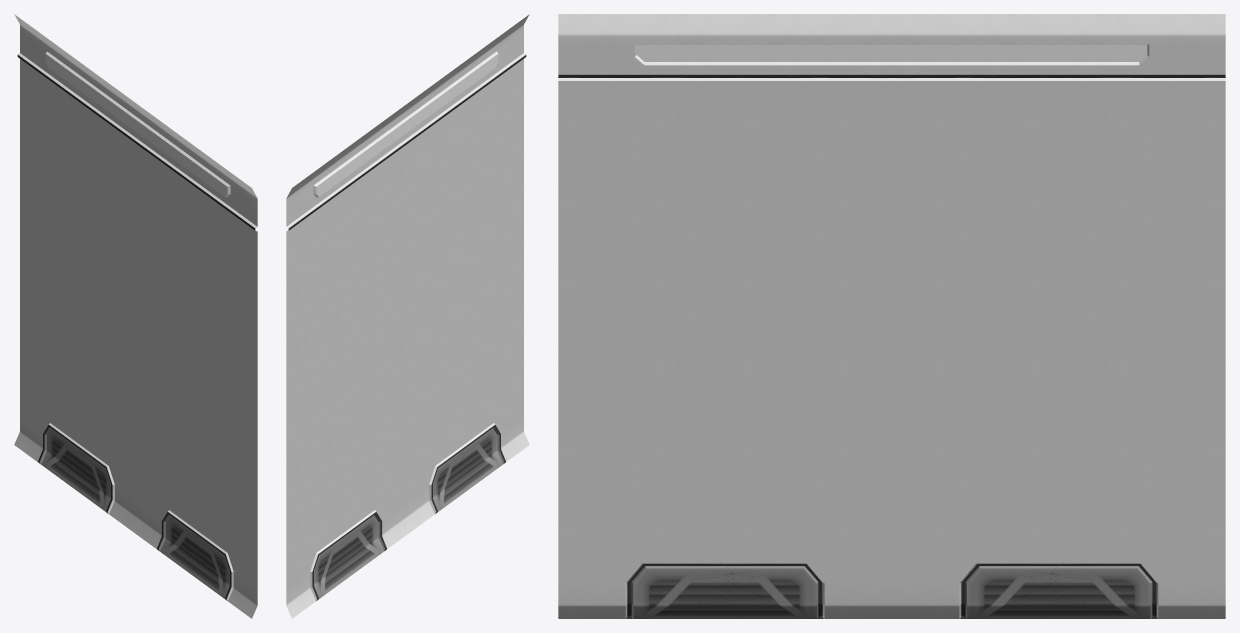
Rendered from SM_MWall03-350x350-2.FBX.
The picture shows the model from 3 angles, left to right: view 1: azimuth 30°, elevation 25°; view 2: azimuth 150°, elevation 25°; view 3: azimuth 270°, elevation 25°; orthographic projection. The views are drawn at different scales.
Visible parts, largest first — view 1: SM_MWall03-350x350-2; view 2: SM_MWall03-350x350-2; view 3: SM_MWall03-350x350-2.
Boxes of the visible parts, x1=… form: SM_MWall03-350x350-2: x1=14, y1=14, x2=257, y2=618; SM_MWall03-350x350-2: x1=286, y1=14, x2=529, y2=618; SM_MWall03-350x350-2: x1=558, y1=14, x2=1225, y2=618.
Size of what is drawn, in the model's own units: 5.65 by 350 by 350.
